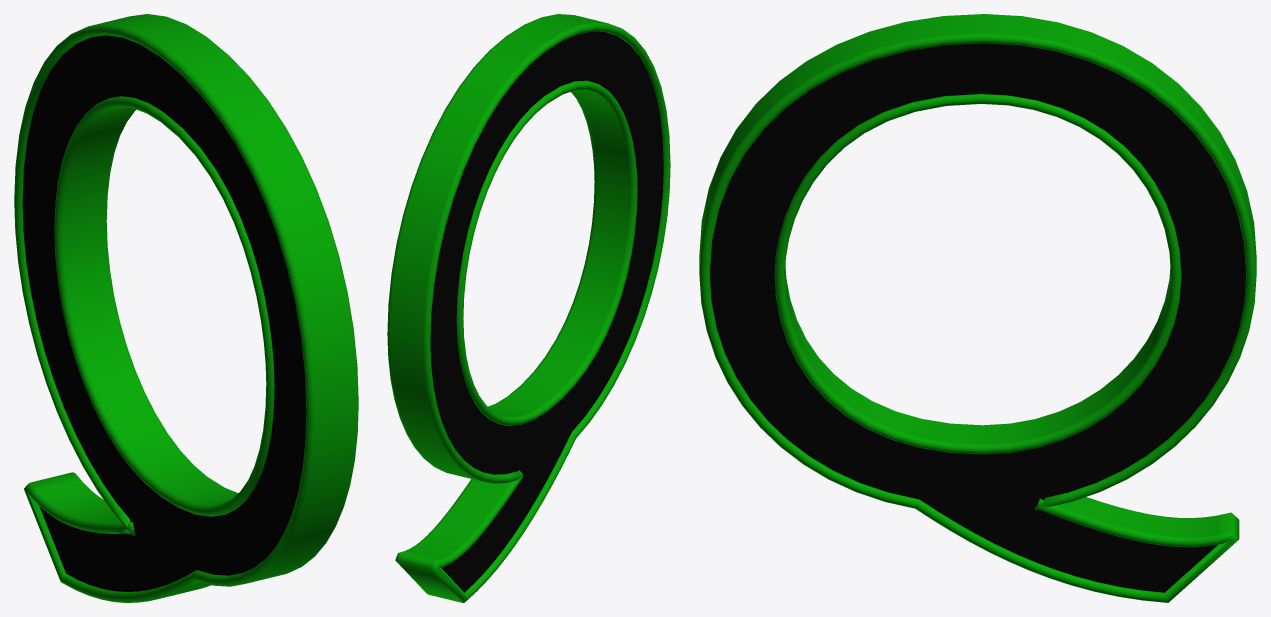
The picture shows the model from 3 angles, left to right: view 1: azimuth 30°, elevation 25°; view 2: azimuth 150°, elevation 25°; view 3: azimuth 270°, elevation 25°; orthographic projection. The views are drawn at different scales.
Visible parts, largest first — view 1: Q; view 2: Q; view 3: Q.
Boxes of the visible parts, x1=… form: Q: x1=14, y1=14, x2=358, y2=602; Q: x1=387, y1=14, x2=670, y2=602; Q: x1=699, y1=14, x2=1256, y2=602.
Size of the model in its own units: 7.4 by 84.43 by 74.9.
